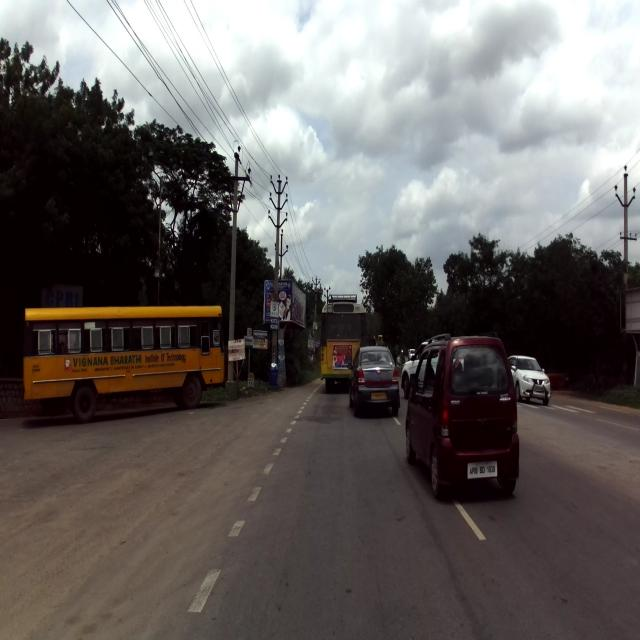Car_Maruti-Suzuki: (404, 331, 520, 497)
bus: (22, 304, 225, 422)
